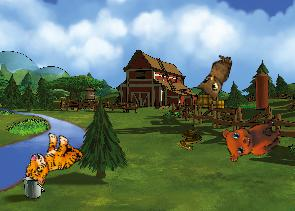bear: (216, 105, 286, 169)
owl: (194, 50, 233, 102)
tiger: (21, 126, 86, 195)
